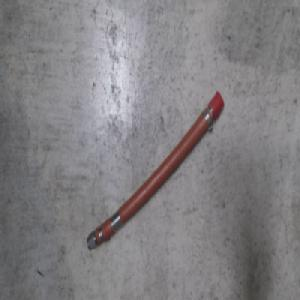Hose: (86, 93, 226, 254)
